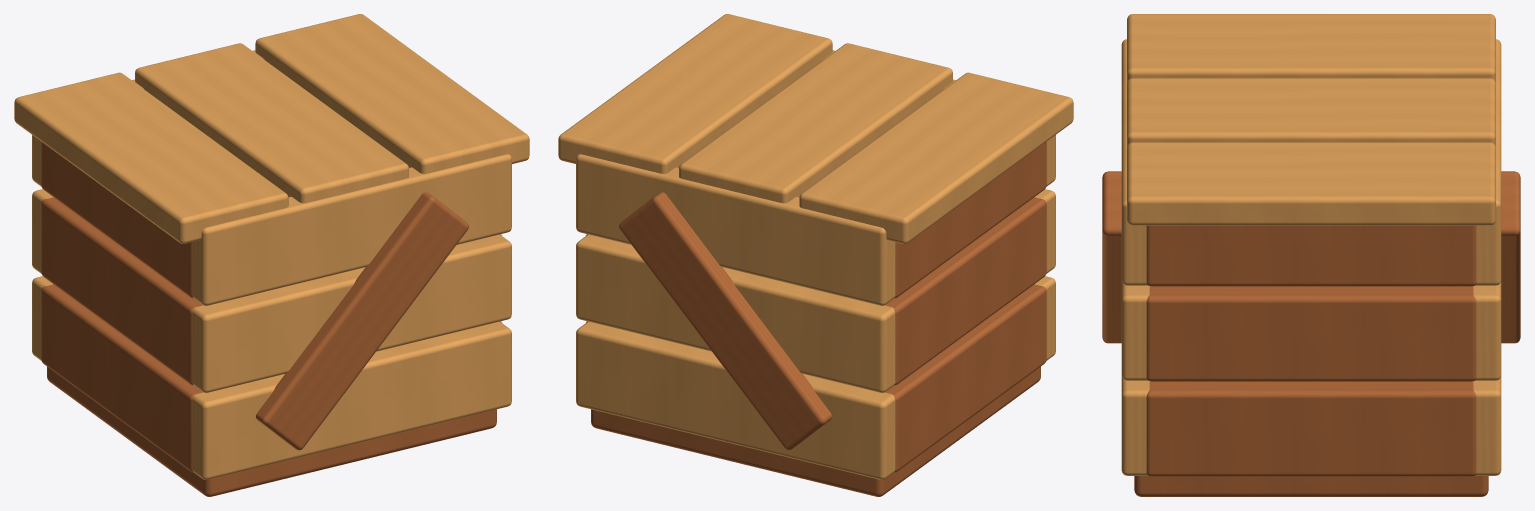
The model's file is CRATE.glb.
3 renders of one model, left to right at view 1: azimuth 30°, elevation 25°; view 2: azimuth 150°, elevation 25°; view 3: azimuth 270°, elevation 25°, orthographic. The views are drawn at different scales.
Visible parts, largest first — view 1: CRATE; view 2: CRATE; view 3: CRATE.
Part boxes in pixels (x1,y1,x2,y2): CRATE: (14,14,529,496); CRATE: (558,14,1073,496); CRATE: (1102,14,1520,496).
Size of the model in its own units: 0.61 by 0.482 by 0.578.
Materials: 2 (2 with a texture image).
